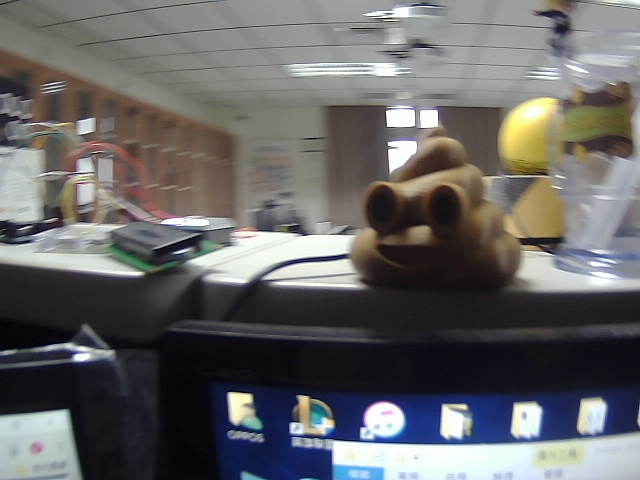shit: (331, 115, 530, 309)
